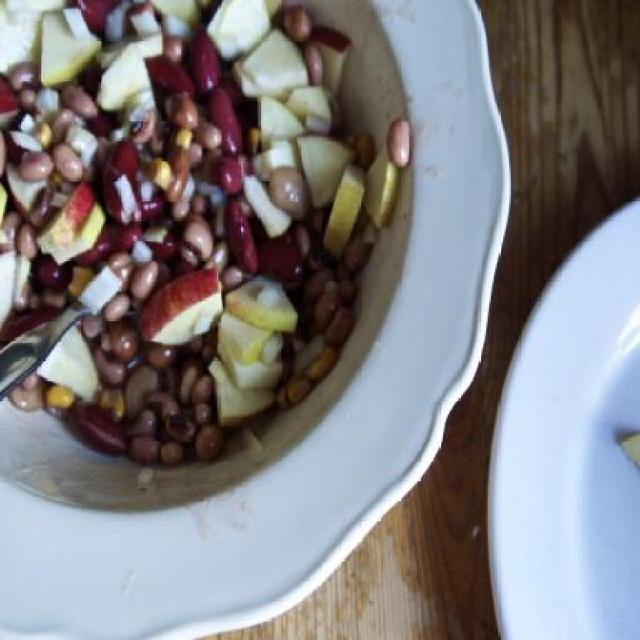Salad: (0, 0, 414, 508)
